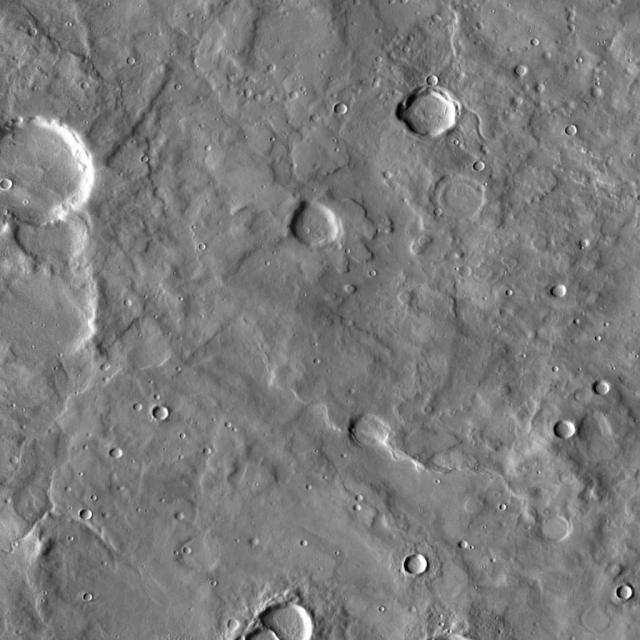crater: (0, 114, 102, 226), (0, 262, 106, 361), (22, 199, 96, 264), (408, 86, 463, 134), (436, 170, 491, 217), (294, 198, 346, 244), (257, 600, 314, 640), (354, 409, 396, 446), (179, 533, 221, 570), (540, 514, 572, 542), (402, 552, 427, 573), (553, 418, 576, 438), (590, 378, 610, 394), (549, 284, 566, 299), (617, 585, 633, 599), (151, 407, 167, 421), (109, 446, 123, 458), (332, 104, 346, 116), (80, 507, 93, 519), (564, 124, 578, 135), (588, 85, 602, 96), (515, 64, 528, 75), (0, 178, 12, 189), (457, 538, 469, 549), (247, 537, 259, 548), (462, 267, 474, 278), (427, 74, 440, 84), (472, 162, 484, 172), (228, 617, 239, 627), (534, 82, 545, 92), (134, 402, 144, 412), (512, 97, 522, 106), (202, 448, 212, 457), (126, 58, 136, 67), (542, 52, 552, 61), (28, 27, 38, 36), (83, 594, 93, 602), (578, 240, 587, 248), (16, 454, 25, 462), (530, 38, 538, 46), (352, 504, 360, 512), (176, 512, 183, 520), (184, 546, 192, 553), (299, 540, 307, 547), (355, 495, 363, 501), (141, 157, 148, 163)
